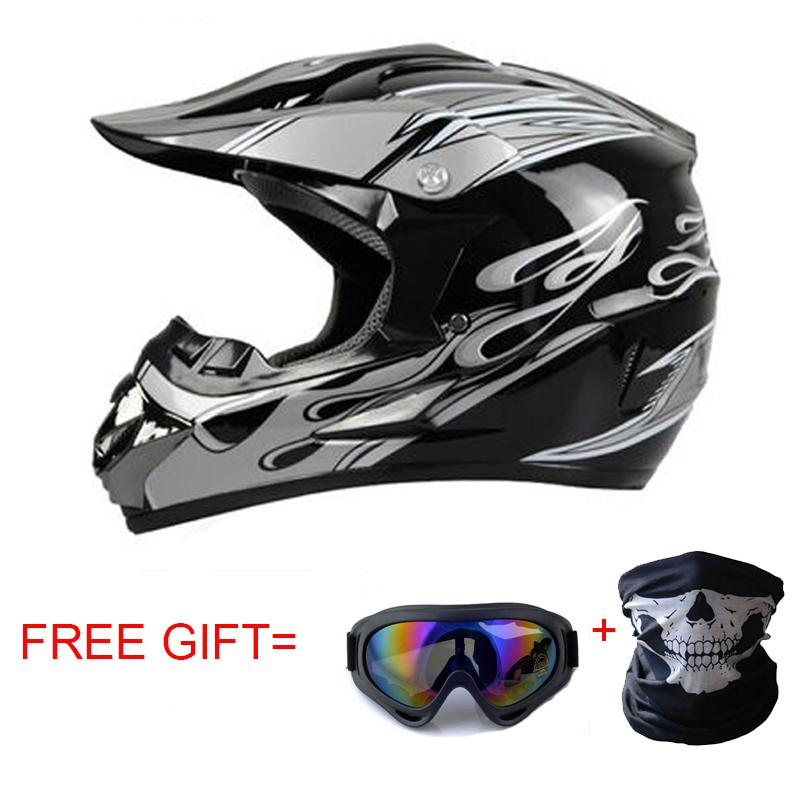with_helmet: (64, 31, 738, 538)
